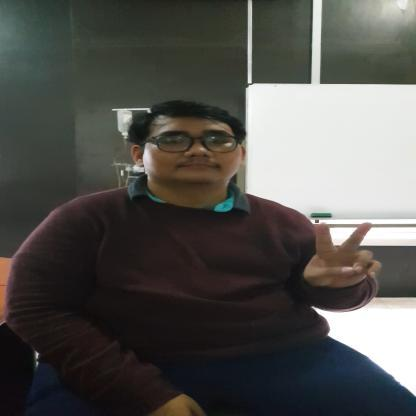V: (301, 221, 382, 289)
